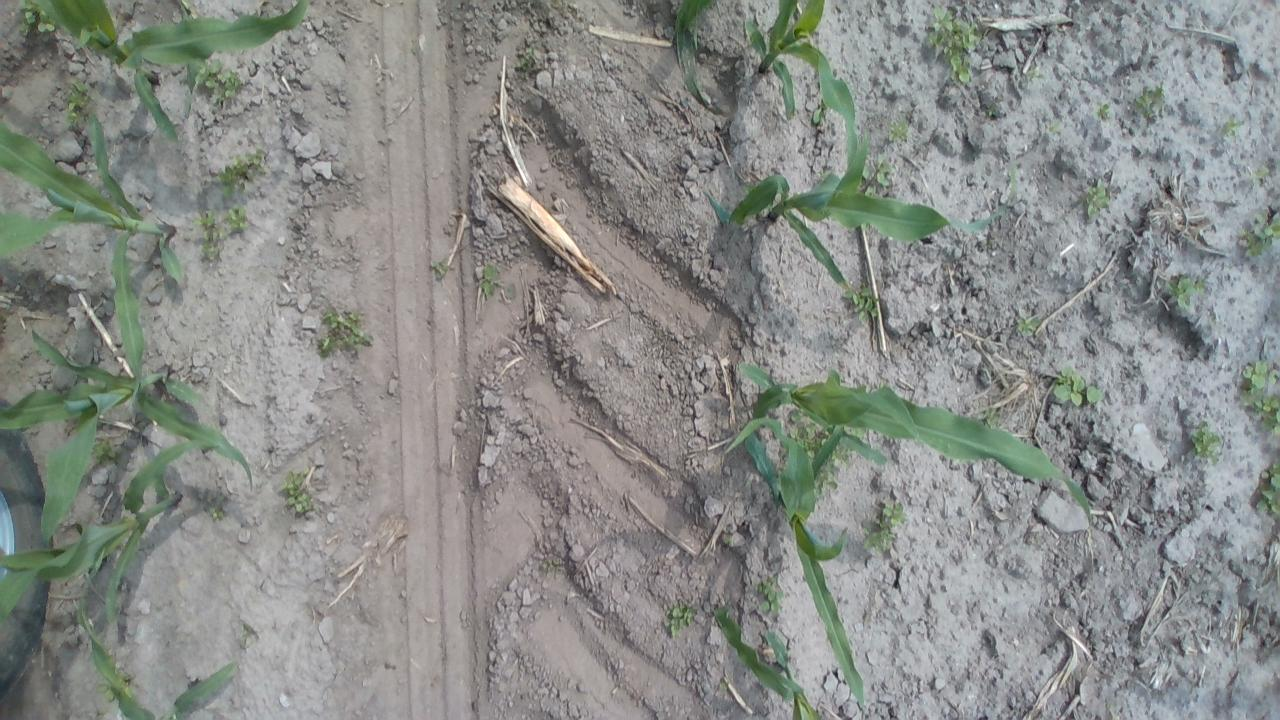Maize: (714, 350, 1106, 546), (0, 82, 186, 415), (0, 322, 263, 543), (708, 125, 1028, 306), (0, 434, 237, 644), (732, 407, 886, 715), (31, 0, 313, 146), (664, 0, 864, 190), (77, 549, 250, 720), (709, 605, 845, 720)
Weeds: (925, 5, 984, 84), (313, 302, 377, 364), (1239, 360, 1280, 438), (193, 206, 252, 258), (216, 146, 269, 196), (859, 498, 908, 552), (192, 59, 245, 106), (278, 466, 322, 520), (1050, 364, 1104, 407), (1235, 210, 1280, 260), (15, 0, 66, 40), (1251, 460, 1280, 528), (1188, 419, 1224, 469), (62, 81, 98, 130), (1164, 276, 1208, 316), (1134, 78, 1172, 120), (782, 411, 819, 454), (1082, 175, 1114, 224), (98, 666, 136, 707), (754, 579, 789, 622), (664, 602, 702, 640), (818, 452, 854, 492), (858, 153, 892, 195), (472, 258, 505, 300), (846, 286, 882, 324), (885, 117, 921, 154), (425, 248, 460, 284), (201, 490, 233, 527), (88, 432, 125, 464), (1014, 313, 1046, 343), (516, 43, 546, 74), (806, 93, 834, 124), (236, 620, 266, 648), (1222, 110, 1246, 140), (720, 528, 739, 554), (1248, 163, 1270, 184), (1093, 99, 1116, 118), (1044, 120, 1066, 138), (714, 675, 732, 697), (845, 422, 867, 439), (1023, 66, 1041, 84)
